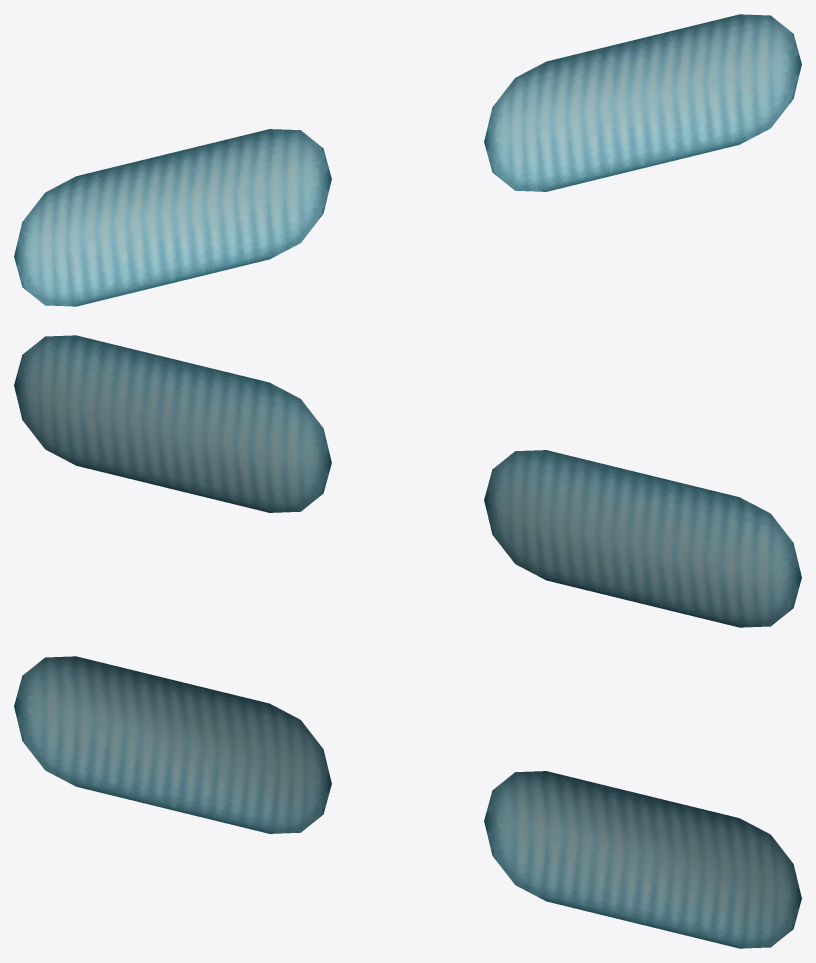
The model's file is ykl37r_engine_s02_on_l0.fbx.
The picture shows the model from 3 angles, top to bottom: view 1: azimuth 30°, elevation 25°; view 2: azimuth 150°, elevation 25°; view 3: azimuth 330°, elevation 25°; orthographic projection.
Parts seen in each view (by area): view 1: mesh_node; view 2: mesh_node; view 3: mesh_node.
Boxes of the visible parts, left/top/right/bottom form: mesh_node: left=14, top=14, right=801, bottom=306; mesh_node: left=14, top=335, right=801, bottom=627; mesh_node: left=14, top=656, right=801, bottom=948.
Size of the model in its own units: 10.57 by 1.67 by 0.1606.
